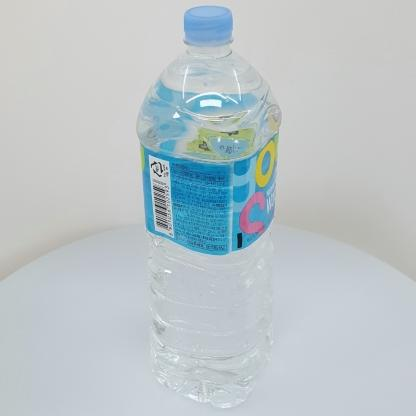--------1-5L: (136, 6, 282, 409)
